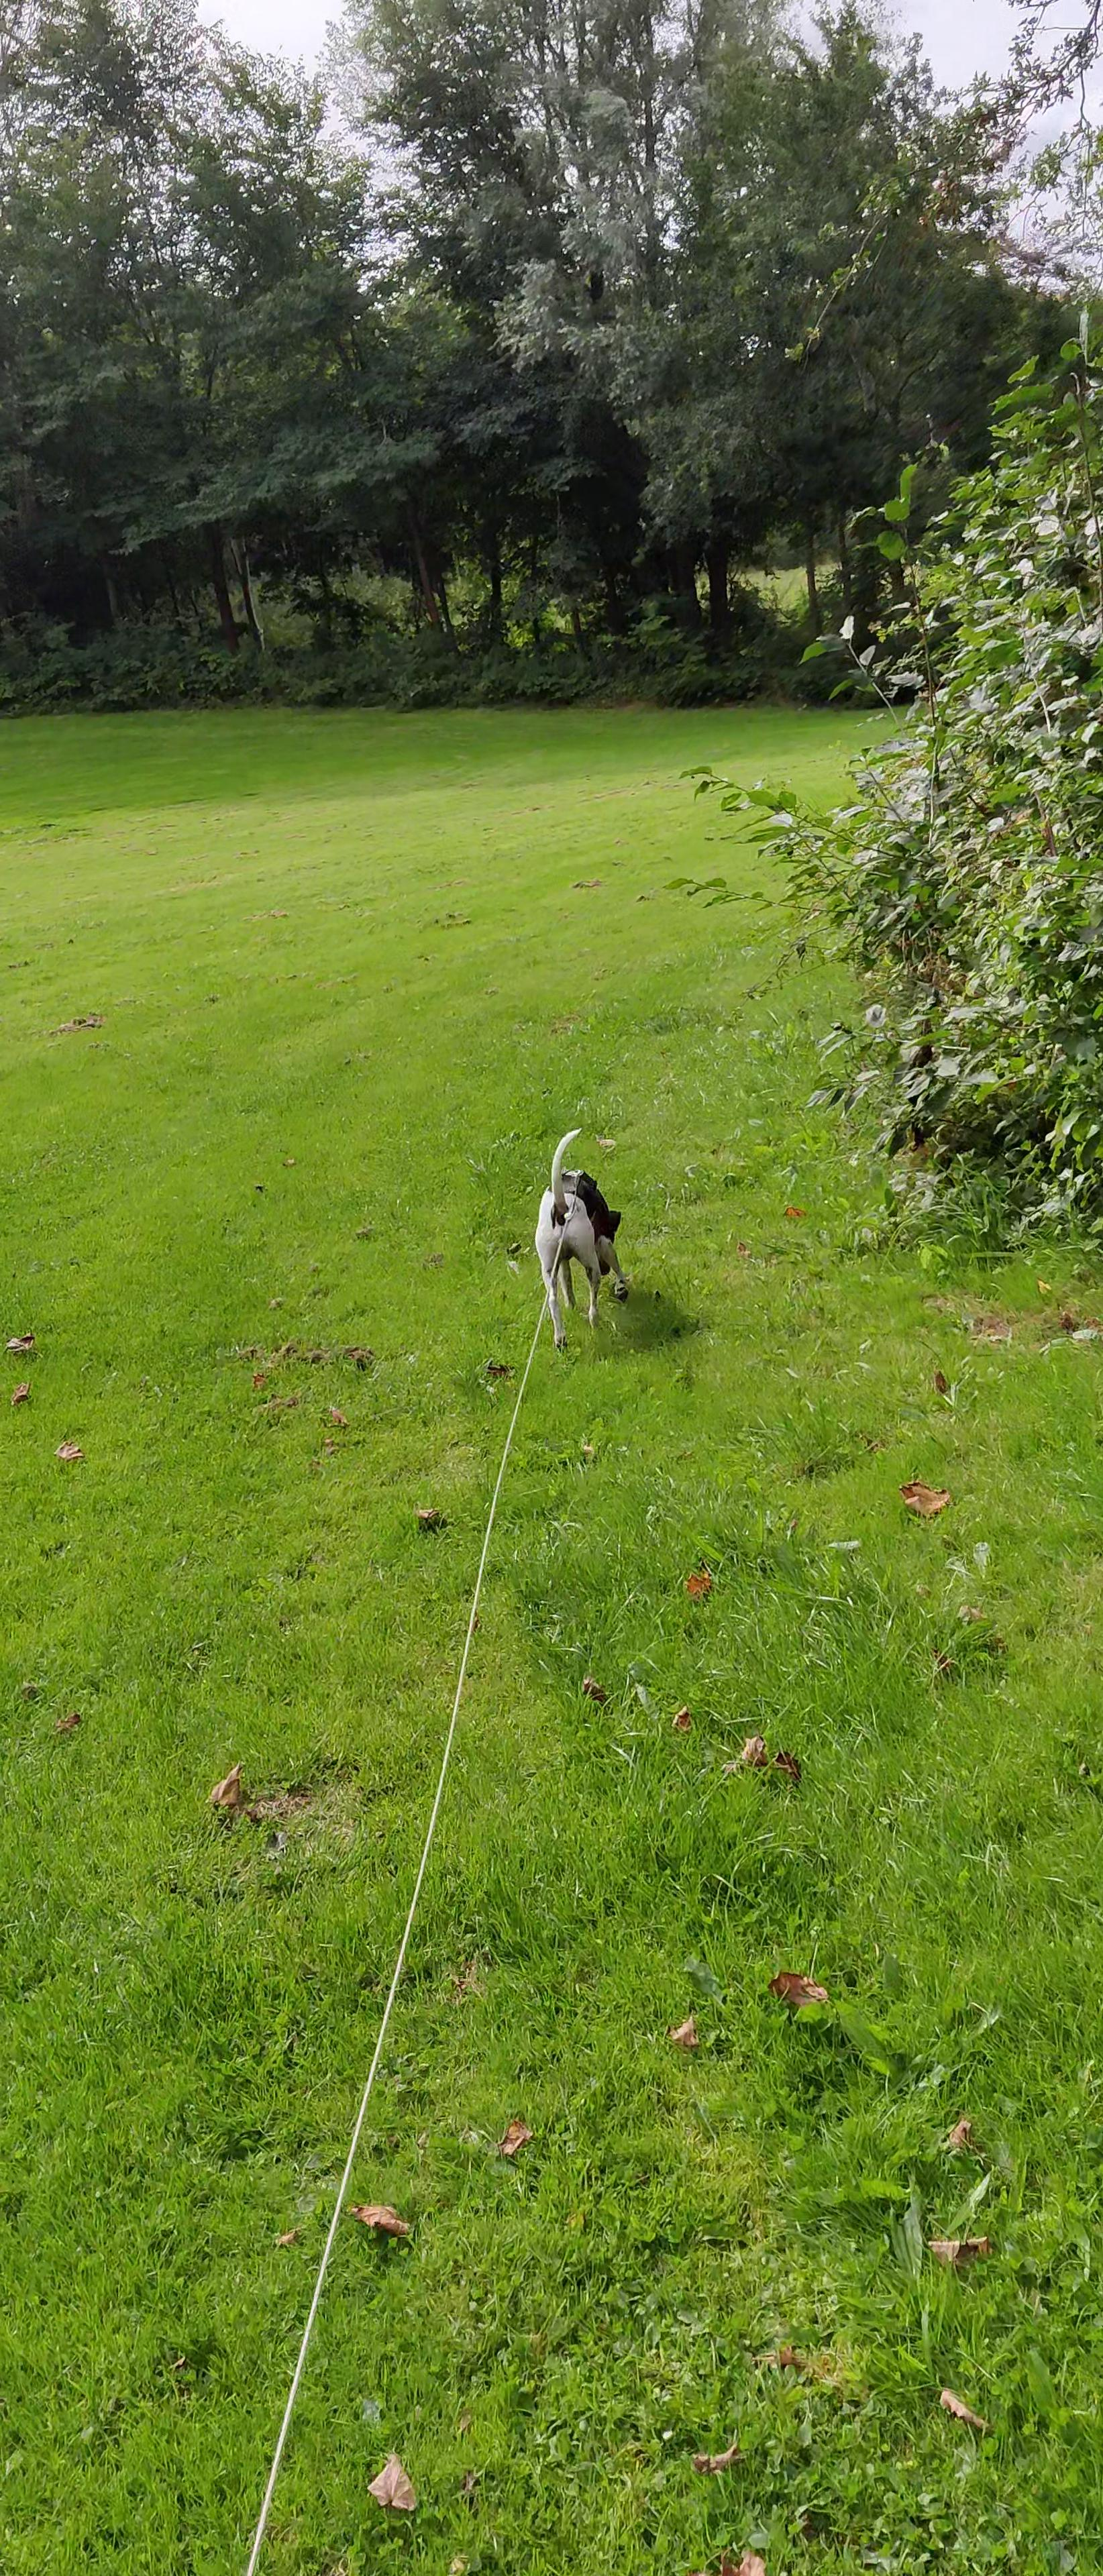Dog: (515, 1115, 644, 1365)
